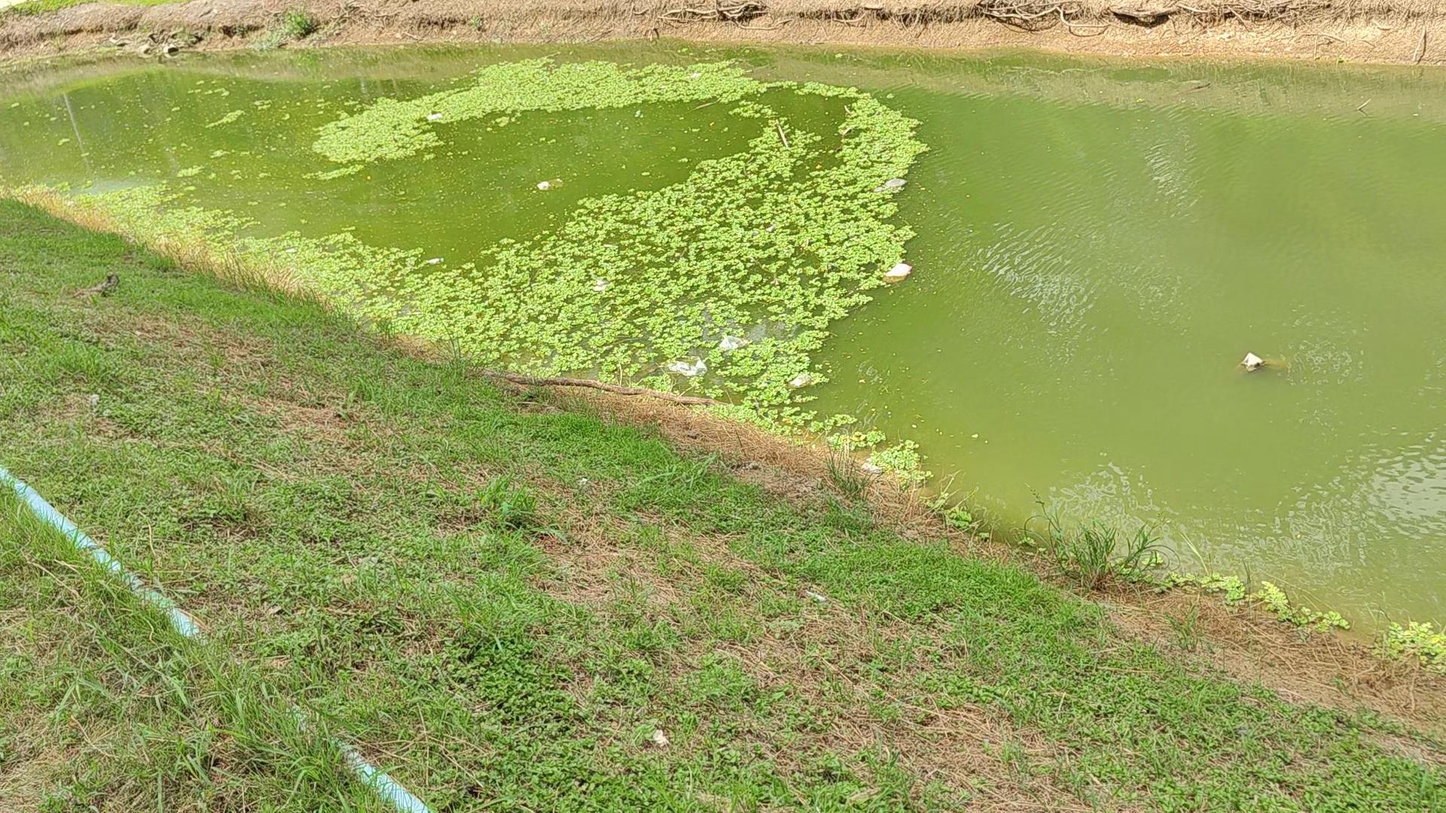trash: (668, 359, 706, 376), (885, 262, 912, 280), (719, 335, 749, 350), (1241, 352, 1264, 370), (874, 178, 906, 190), (789, 373, 813, 388), (538, 178, 562, 190), (592, 279, 609, 291), (428, 112, 443, 120), (427, 258, 442, 264), (690, 72, 700, 78)
